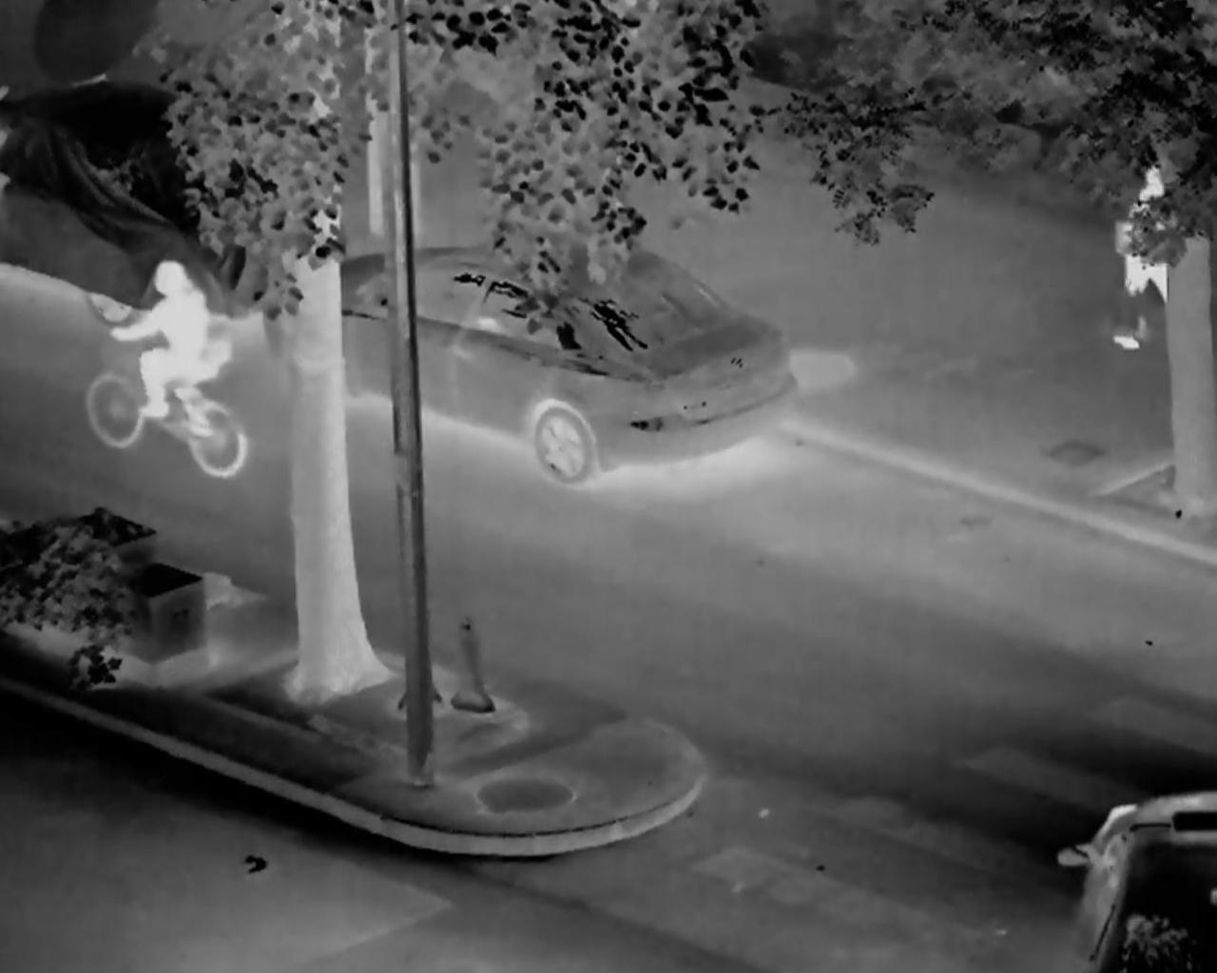person: (119, 248, 241, 454), (1112, 157, 1187, 378)
